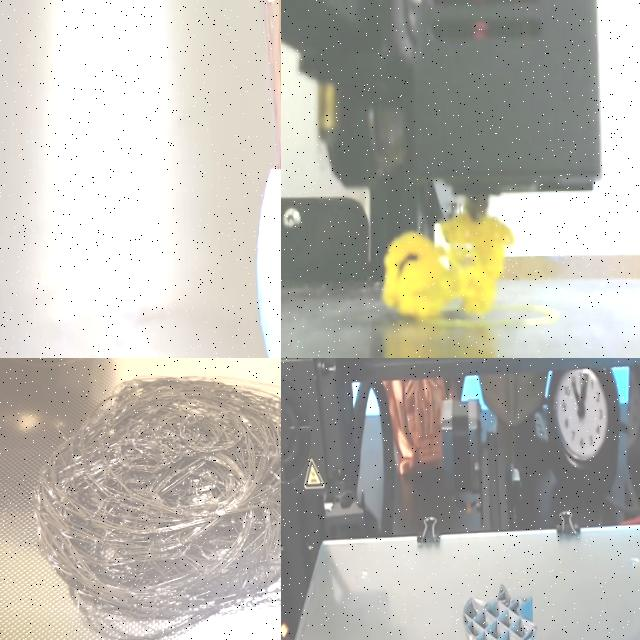spaghetti: (30, 377, 281, 640), (383, 212, 514, 318)
